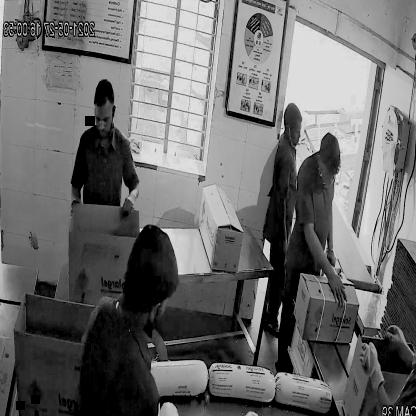no_goggles: (93, 109, 117, 130)
